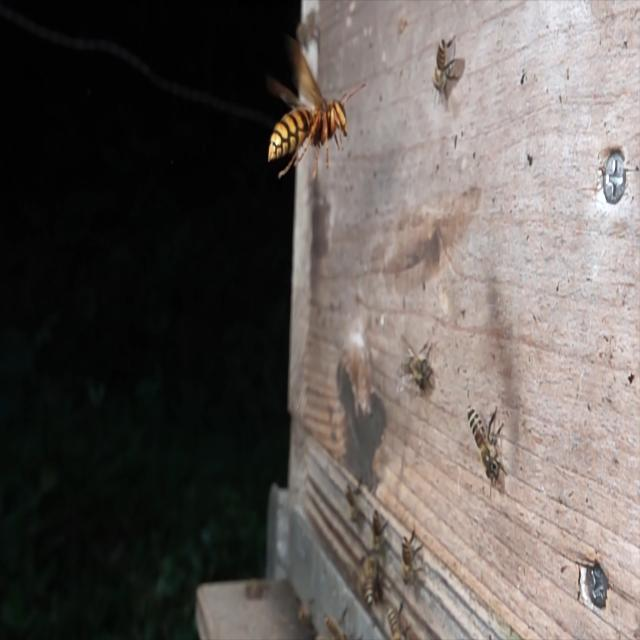Bees: (466, 404, 506, 493), (397, 336, 432, 393), (432, 34, 460, 105), (402, 526, 424, 586)
Hornets: (268, 32, 366, 178)
